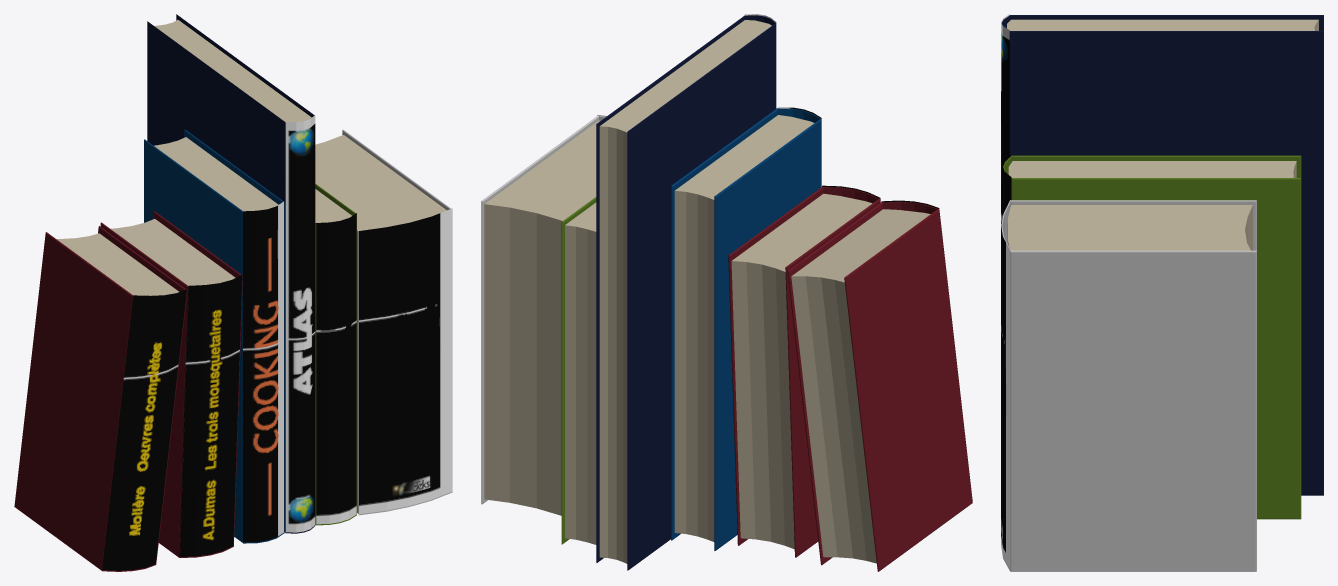
File: livres.obj
3 renders of one model, left to right at view 1: azimuth 30°, elevation 25°; view 2: azimuth 150°, elevation 25°; view 3: azimuth 270°, elevation 25°, orthographic. The views are drawn at different scales.
Parts seen in each view (by area): view 1: titles_tranche_4.001, face_avant_5, face_avant_2, face_avant_1, pages_4, face_avant, pages, pages_2, pages_1, pages_5, face_arriere_1, face_arriere_5 (+6 smaller); view 2: face_avant_5, face_avant_2, pages_4, pages, pages_5, pages_1, pages_2, face_avant_1, pages_3, face_avant, face_arriere_2, face_arriere_1 (+4 smaller); view 3: face_arriere_4, face_arriere_2, face_arriere_3, pages_4, pages_3, titles_tranche_4.001, pages_2, face_avant_3, face_avant_2, face_avant_4.
Part boxes in pixels (bbox=[...]): titles_tranche_4.001: bbox=[102, 115, 452, 570]; face_avant_5: bbox=[14, 232, 133, 570]; face_avant_2: bbox=[147, 21, 286, 532]; face_avant_1: bbox=[144, 139, 242, 542]; pages_4: bbox=[315, 135, 446, 230]; face_avant: bbox=[100, 222, 188, 557]; pages: bbox=[110, 219, 235, 285]; pages_2: bbox=[154, 20, 311, 121]; pages_1: bbox=[154, 137, 278, 211]; pages_5: bbox=[56, 233, 178, 295]; face_arriere_1: bbox=[184, 129, 284, 533]; face_arriere_5: bbox=[98, 226, 187, 564]; face_avant_5: bbox=[844, 208, 972, 571]; face_avant_2: bbox=[627, 23, 776, 570]; pages_4: bbox=[484, 120, 600, 515]; pages: bbox=[731, 193, 872, 549]; pages_5: bbox=[791, 209, 930, 563]; pages_1: bbox=[674, 115, 814, 541]; pages_2: bbox=[599, 20, 771, 563]; face_avant_1: bbox=[714, 119, 821, 550]; pages_3: bbox=[565, 202, 596, 544]; face_avant: bbox=[785, 198, 880, 557]; face_arriere_2: bbox=[596, 15, 745, 562]; face_arriere_1: bbox=[671, 108, 778, 540]; face_arriere_4: bbox=[1010, 250, 1256, 571]; face_arriere_2: bbox=[1009, 31, 1323, 495]; face_arriere_3: bbox=[1011, 178, 1301, 519]; pages_4: bbox=[1007, 205, 1252, 250]; pages_3: bbox=[1008, 161, 1296, 177]; titles_tranche_4.001: bbox=[1001, 14, 1011, 570]; pages_2: bbox=[1007, 19, 1318, 30]; face_avant_3: bbox=[1011, 155, 1301, 177]; face_avant_2: bbox=[1010, 15, 1323, 30]; face_avant_4: bbox=[1010, 200, 1256, 250].
Size of the model in its own units: 23.99 by 26.95 by 16.88.
Materials: 8 (1 with a texture image).
